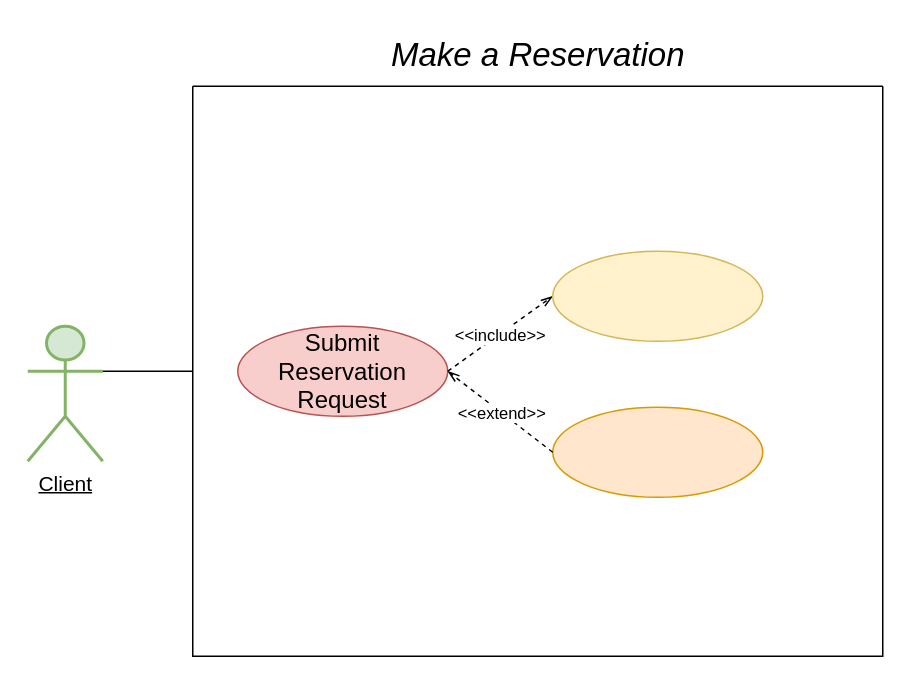
Image size: 909x683. Some labels were removed from this diagram. Here are the shapes that lost their labels. From the top down, the box of each, then its label:
(551, 250, 763, 341): Select an Available Table
(551, 406, 763, 497): Change Request
